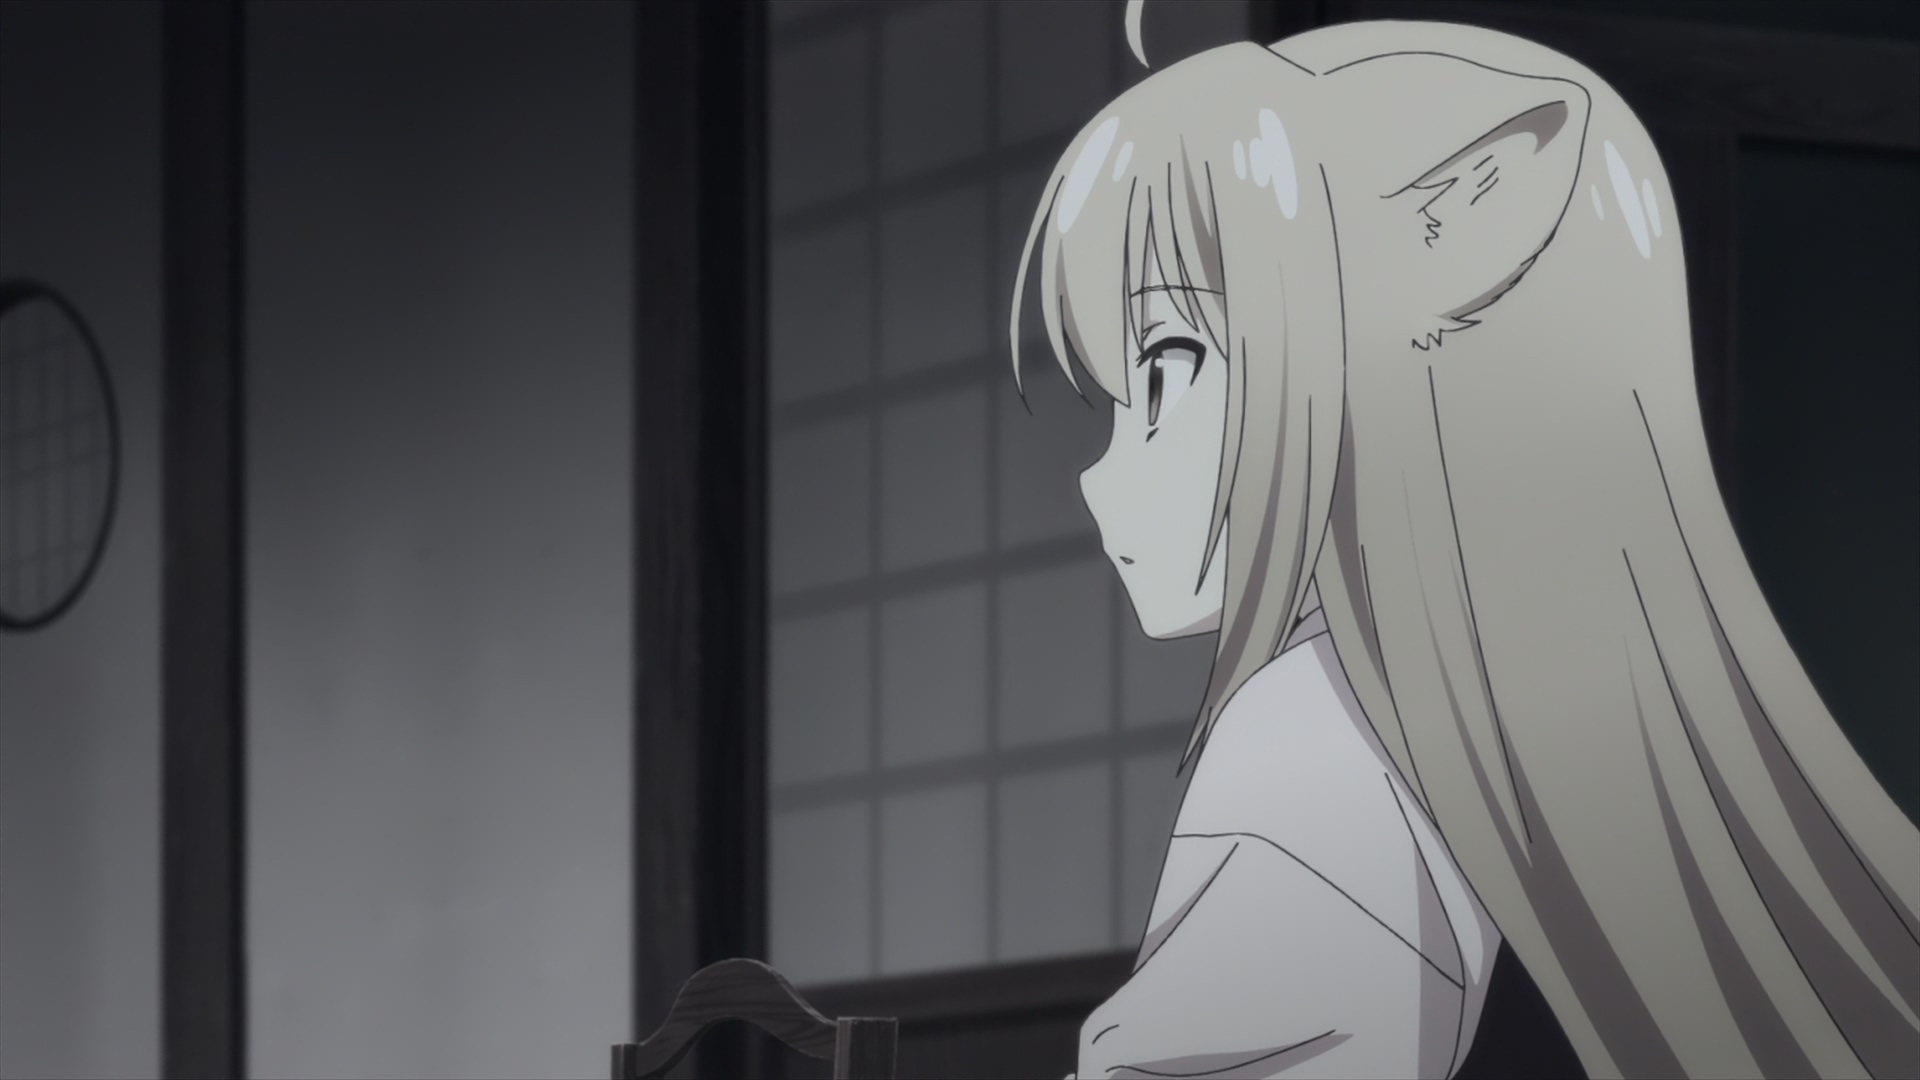柚: (1007, 1, 1920, 1080)
